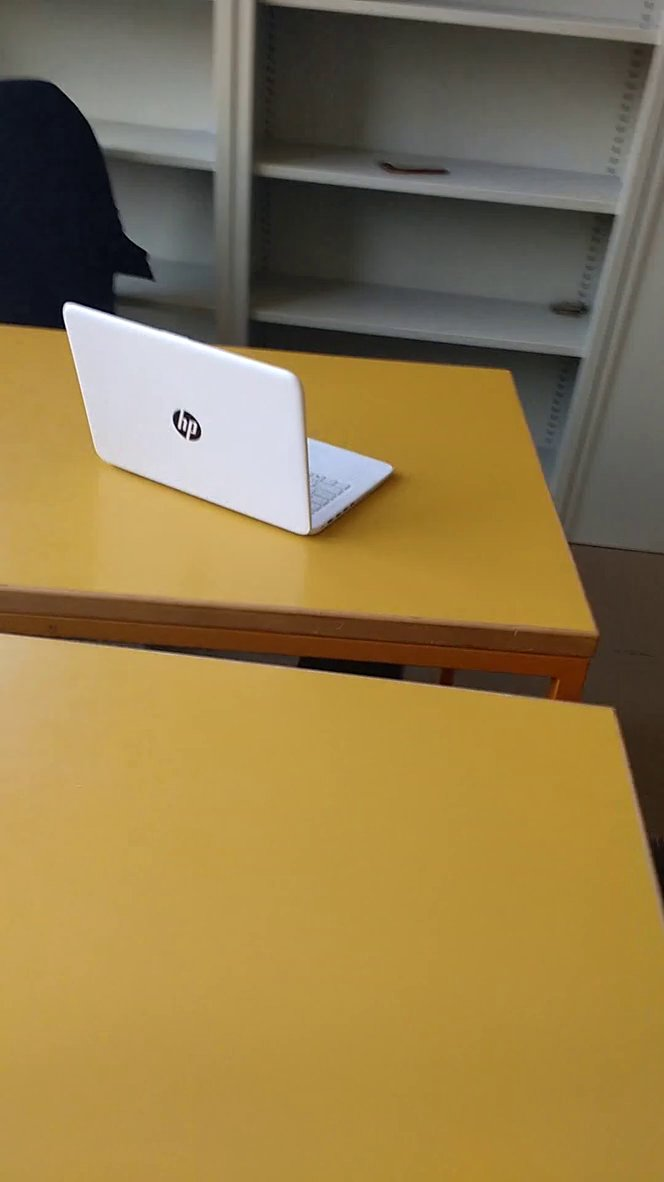laptop: (58, 292, 404, 547)
